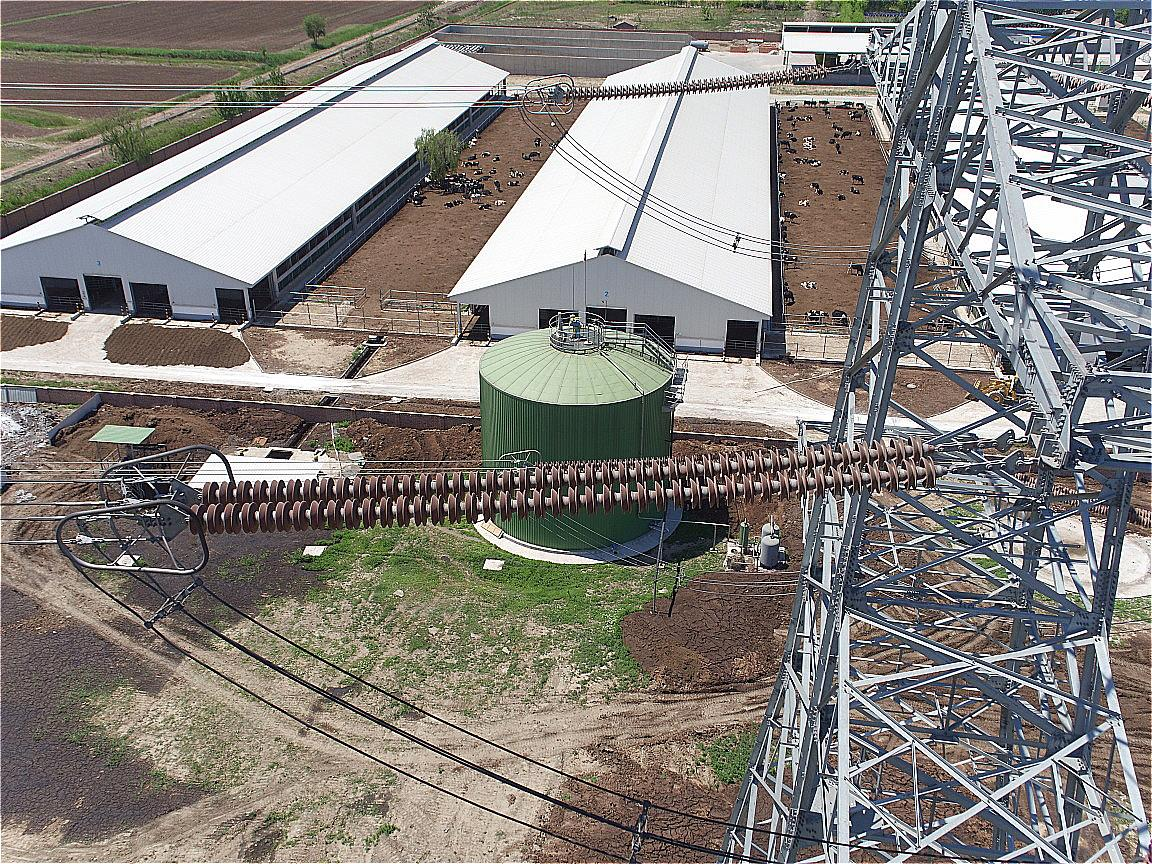insultor2: (186, 434, 939, 535), (567, 65, 828, 102)
